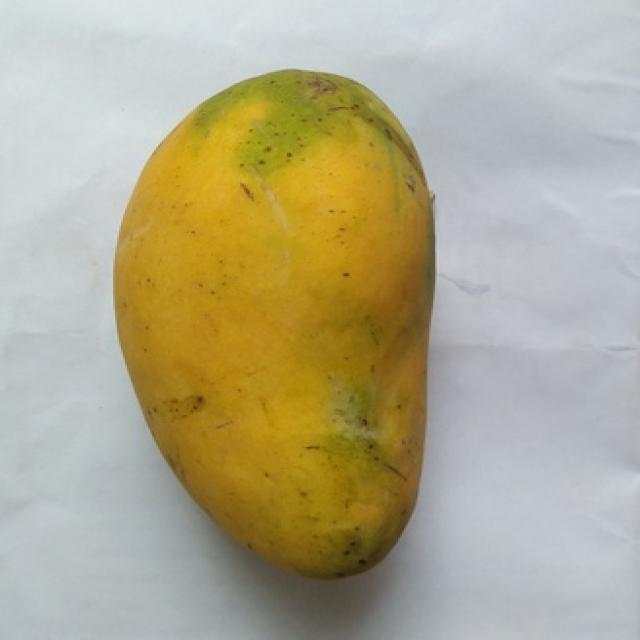Mango: (115, 70, 433, 575)
